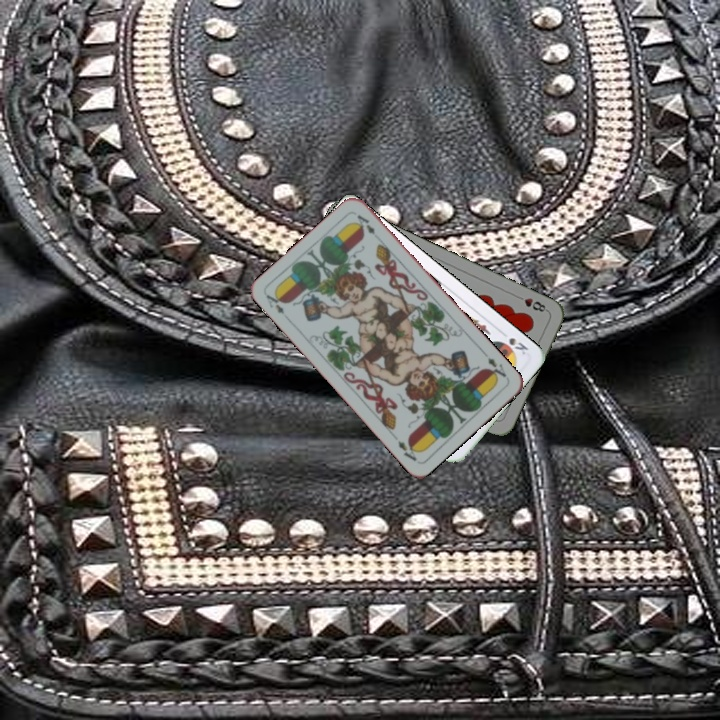EA: (262, 288, 293, 324), (482, 353, 509, 383)
H8: (512, 291, 550, 314)
SK: (496, 327, 531, 357)
